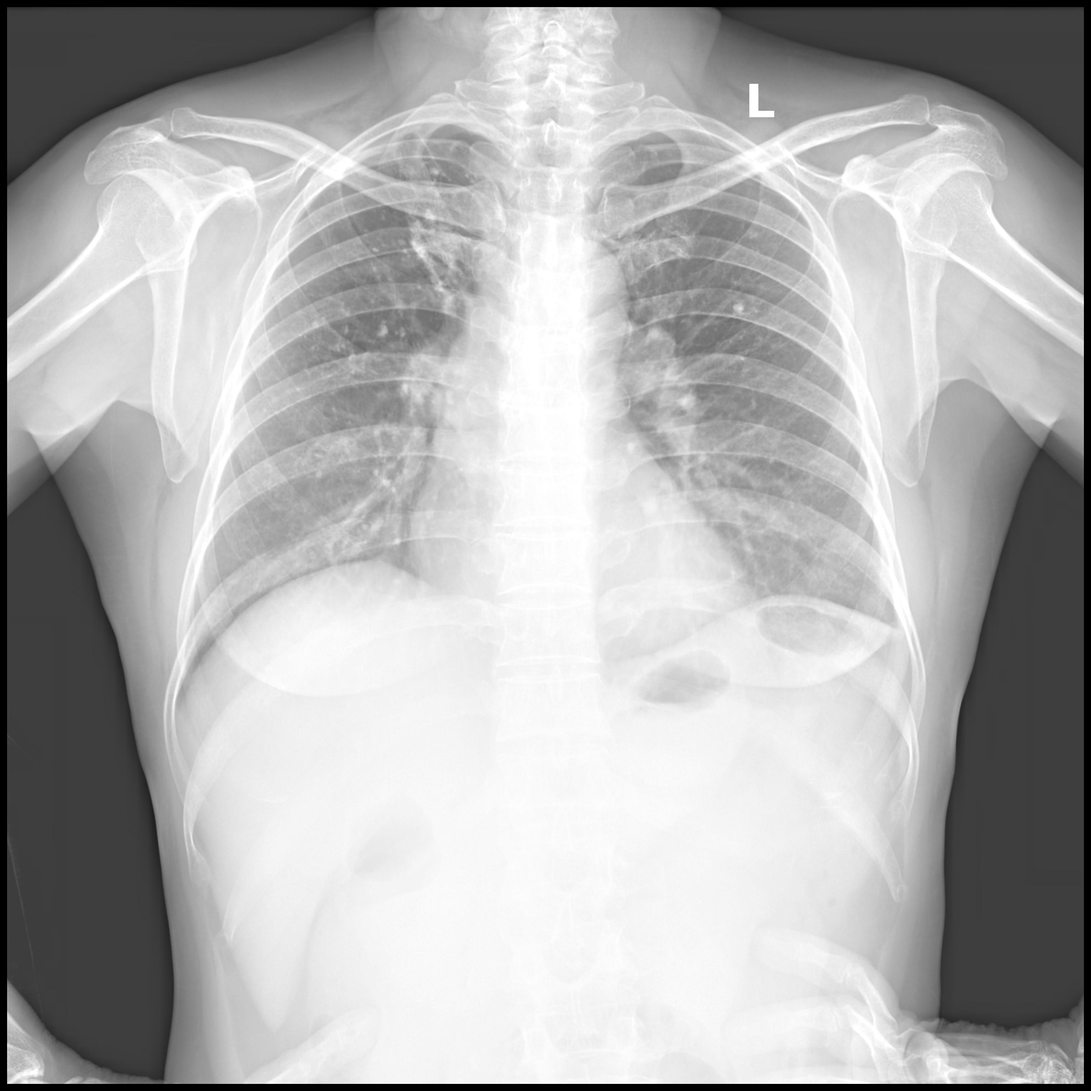Pulmonary fibrosis: (298, 135, 460, 378), (725, 224, 790, 362)
